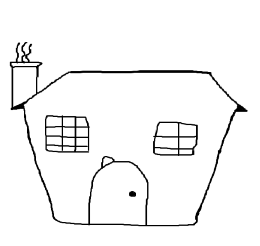closed_window: (39, 112, 94, 159), (147, 119, 204, 158)
door: (83, 155, 154, 229)
single_line_roof: (6, 63, 252, 116)
smoking_chimney: (3, 27, 47, 114)
wall: (21, 111, 242, 231)
